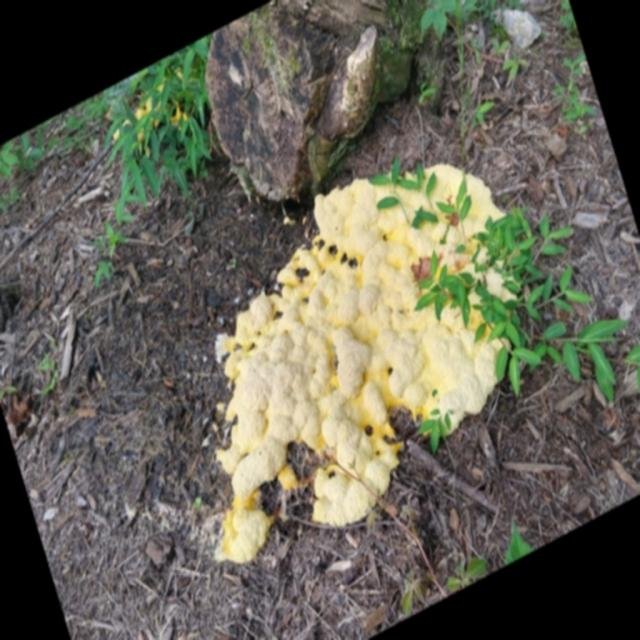Dog_vomit_slime_mold: (168, 171, 541, 546)
